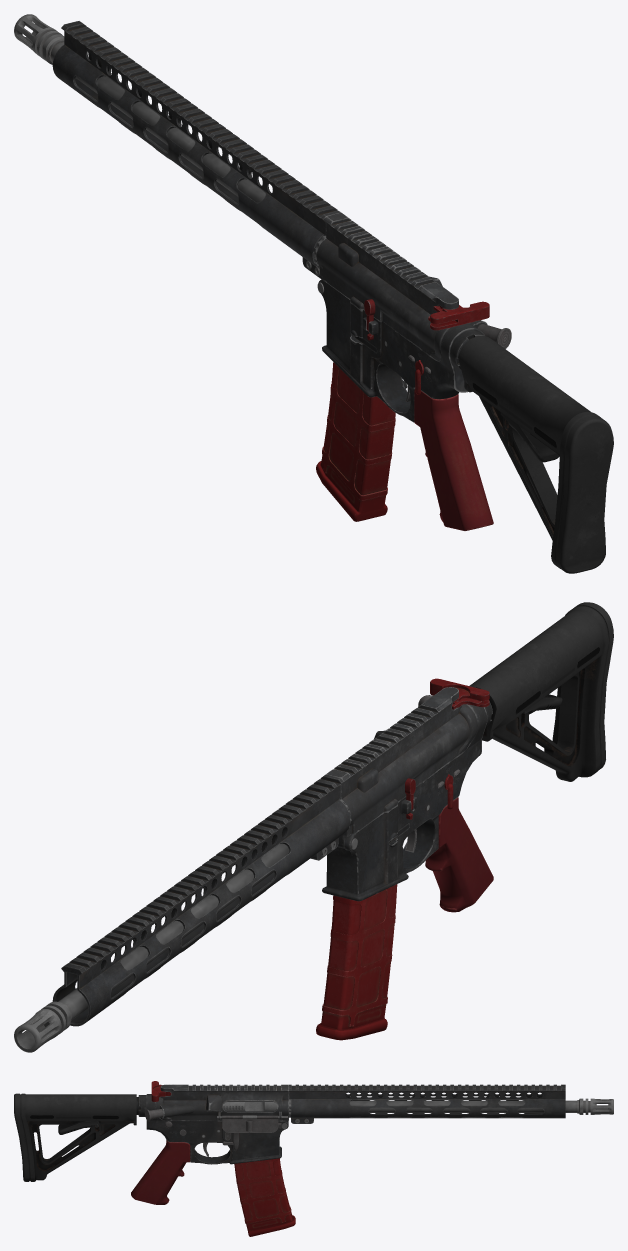
File: rifle-compar.glb
The picture shows the model from 3 angles, top to bottom: view 1: azimuth 30°, elevation 25°; view 2: azimuth 150°, elevation 25°; view 3: azimuth 270°, elevation 25°; orthographic projection. The views are drawn at different scales.
Parts seen in each view (by area): view 1: Object_3, Object_6, Object_2, Object_5, Object_4; view 2: Object_3, Object_6, Object_2, Object_5, Object_4; view 3: Object_3, Object_6, Object_2, Object_5, Object_4.
Part boxes in pixels (<box>): Object_3: <box>14,14,340,279</box>; Object_6: <box>316,212,487,422</box>; Object_2: <box>450,330,613,573</box>; Object_5: <box>316,362,493,530</box>; Object_4: <box>317,282,511,402</box>; Object_3: <box>14,774,351,1052</box>; Object_6: <box>322,687,487,901</box>; Object_2: <box>469,602,613,781</box>; Object_5: <box>316,797,493,1040</box>; Object_4: <box>351,678,489,852</box>; Object_3: <box>289,1084,613,1123</box>; Object_6: <box>146,1084,288,1164</box>; Object_2: <box>14,1093,146,1181</box>; Object_5: <box>131,1140,295,1236</box>; Object_4: <box>145,1081,287,1156</box>.
Bounding box in the file's own units: 0.0765 × 0.2688 × 0.9966.
5 materials, 5 textured.
